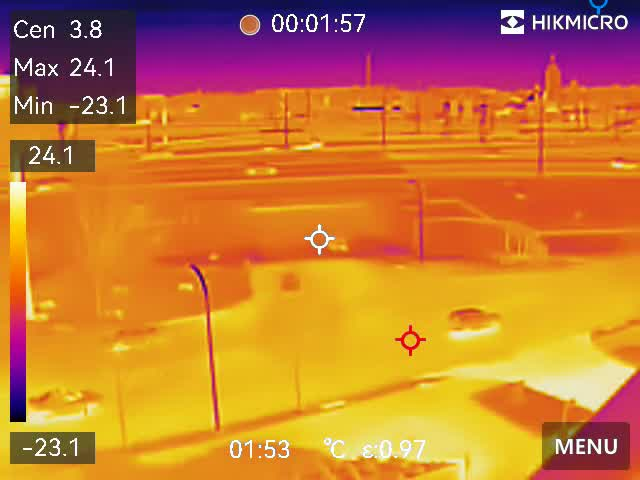heavyTruck: (256, 127, 325, 158)
smallCar: (19, 384, 102, 419), (241, 160, 283, 179)
vehicle: (444, 306, 502, 337), (102, 321, 166, 349), (274, 265, 308, 306)
